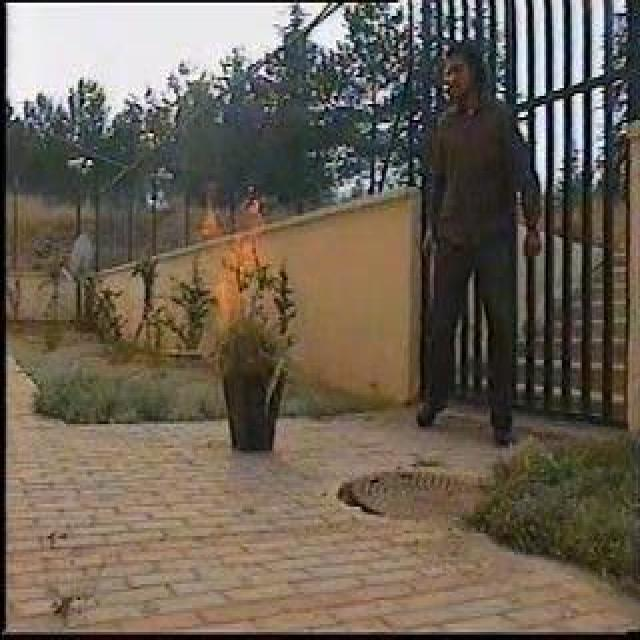fire: (201, 203, 264, 337)
